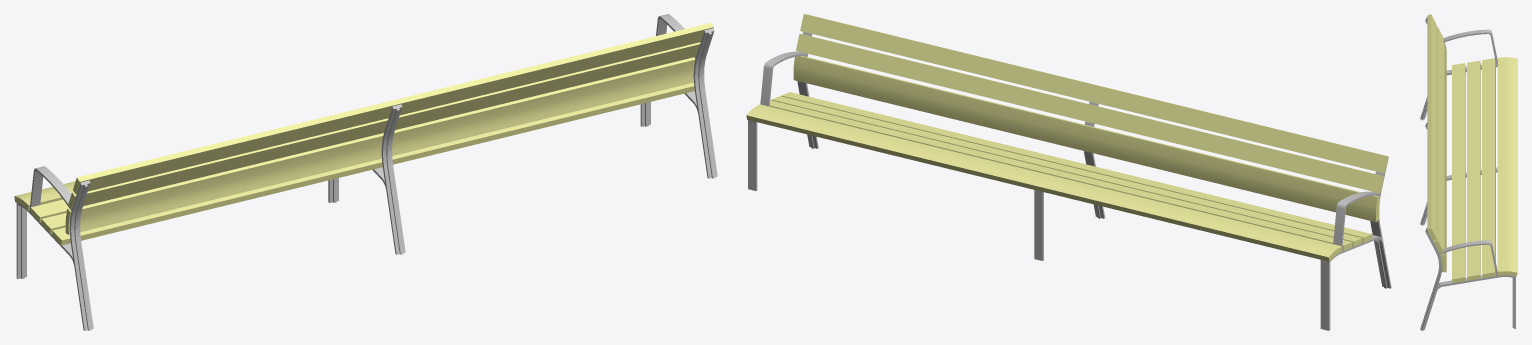
3 renders of one model, left to right at view 1: azimuth 30°, elevation 25°; view 2: azimuth 150°, elevation 25°; view 3: azimuth 270°, elevation 25°, orthographic. The views are drawn at different scales.
Visible parts, largest first — view 1: mesh6_mesh6-geometry, mesh8_mesh8-geometry, mesh1_mesh1-geometry, mesh4_mesh4-geometry; view 2: mesh6_mesh6-geometry, mesh8_mesh8-geometry, mesh1_mesh1-geometry, mesh4_mesh4-geometry; view 3: mesh6_mesh6-geometry, mesh8_mesh8-geometry, mesh1_mesh1-geometry, mesh4_mesh4-geometry.
Part boxes in pixels (left/top/right/bottom): mesh6_mesh6-geometry: left=30, top=23, right=713, bottom=245; mesh8_mesh8-geometry: left=14, top=57, right=695, bottom=234; mesh1_mesh1-geometry: left=16, top=14, right=717, bottom=330; mesh4_mesh4-geometry: left=328, top=104, right=405, bottom=254; mesh6_mesh6-geometry: left=769, top=14, right=1388, bottom=250; mesh8_mesh8-geometry: left=746, top=56, right=1379, bottom=261; mesh1_mesh1-geometry: left=748, top=31, right=1391, bottom=330; mesh4_mesh4-geometry: left=1034, top=102, right=1105, bottom=260; mesh6_mesh6-geometry: left=1427, top=14, right=1495, bottom=283; mesh8_mesh8-geometry: left=1440, top=42, right=1517, bottom=276; mesh1_mesh1-geometry: left=1420, top=17, right=1515, bottom=330; mesh4_mesh4-geometry: left=1420, top=122, right=1497, bottom=225.
Size of the model in its own units: 0.959 by 0.2149 by 0.1849.
